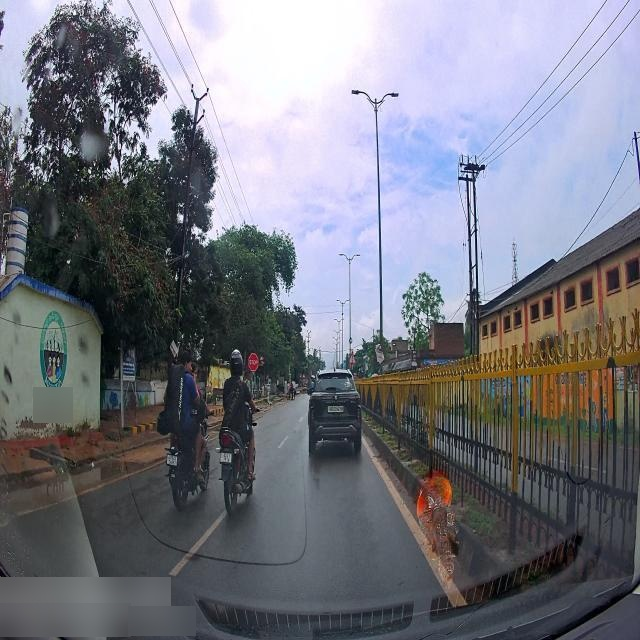pothole: (39, 457, 141, 480)
